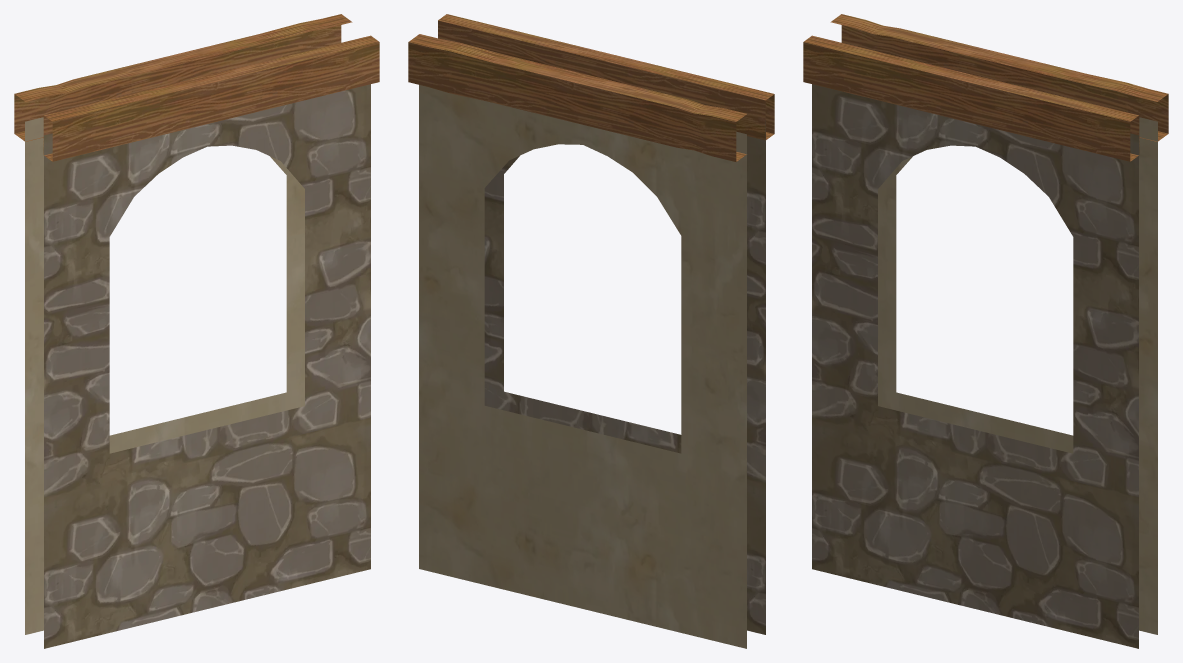
Rendered from Wall_UnevenBrick_Window_Wide_Round.glb.
3 views of the same model, side by side, from view 1: azimuth 30°, elevation 25°; view 2: azimuth 150°, elevation 25°; view 3: azimuth 330°, elevation 25° (orthographic).
Parts seen in each view (by area): view 1: Wall_UnevenBrick_Window_Wide_Round; view 2: Wall_UnevenBrick_Window_Wide_Round; view 3: Wall_UnevenBrick_Window_Wide_Round.
Boxes of the visible parts, bbox=[...] form: Wall_UnevenBrick_Window_Wide_Round: bbox=[14, 14, 379, 648]; Wall_UnevenBrick_Window_Wide_Round: bbox=[408, 14, 774, 648]; Wall_UnevenBrick_Window_Wide_Round: bbox=[803, 14, 1168, 648].
Size of the model in its own units: 2 by 3.12 by 0.4064.
3 materials, 3 textured.
